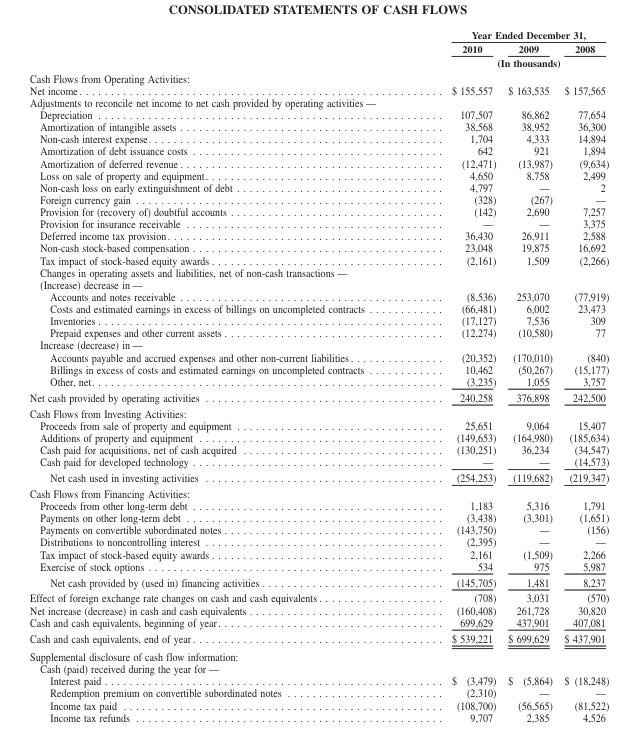table: (29, 28, 608, 723)
table column: (29, 28, 412, 723), (412, 28, 501, 723), (501, 28, 557, 723), (557, 28, 608, 723)
table column header: (29, 28, 608, 69)
table projected row header: (29, 646, 608, 662), (29, 69, 608, 83), (29, 404, 608, 418), (29, 485, 608, 499), (29, 265, 608, 277), (29, 277, 608, 289), (29, 338, 608, 350), (29, 662, 608, 674)
table row: (29, 96, 608, 120), (29, 629, 608, 646), (29, 388, 608, 404), (29, 469, 608, 485), (29, 573, 608, 589), (29, 646, 608, 662), (29, 41, 608, 55), (29, 55, 608, 69), (29, 69, 608, 83), (29, 374, 608, 388), (29, 404, 608, 418), (29, 455, 608, 469), (29, 485, 608, 499), (29, 559, 608, 573), (29, 589, 608, 603), (29, 615, 608, 629), (29, 28, 608, 41), (29, 83, 608, 96), (29, 192, 608, 205), (29, 289, 608, 302), (29, 430, 608, 443), (29, 710, 608, 723), (29, 120, 608, 132), (29, 132, 608, 144), (29, 144, 608, 156), (29, 156, 608, 168), (29, 168, 608, 180), (29, 180, 608, 192), (29, 205, 608, 217), (29, 217, 608, 229), (29, 229, 608, 241), (29, 241, 608, 253), (29, 253, 608, 265), (29, 265, 608, 277), (29, 277, 608, 289), (29, 302, 608, 314), (29, 314, 608, 326), (29, 326, 608, 338), (29, 338, 608, 350), (29, 350, 608, 362), (29, 362, 608, 374), (29, 418, 608, 430), (29, 443, 608, 455), (29, 499, 608, 511), (29, 511, 608, 523), (29, 523, 608, 535), (29, 535, 608, 547), (29, 547, 608, 559), (29, 603, 608, 615), (29, 662, 608, 674), (29, 674, 608, 686), (29, 686, 608, 698), (29, 698, 608, 710)
table spanning cell: (412, 55, 608, 69), (412, 28, 608, 41)
